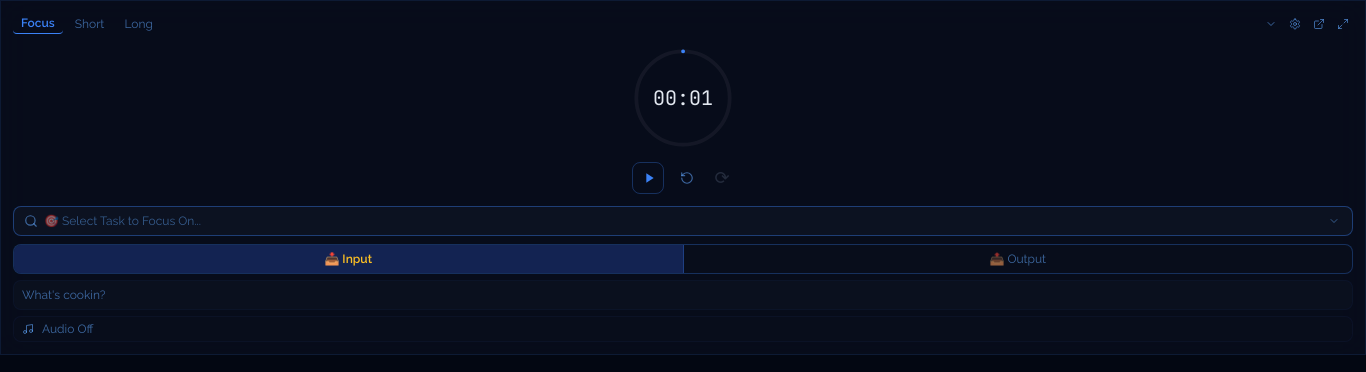
it: PomodoroTimer › allows searching tasks in TimerTaskSearch and selecting via UI click
The width and height of the screenshot is (1366, 372).
Later steps or results of the test are not shown.
Note: Search for Robotics
Type "Robotics" into the dropdown. click: (682, 221)
box: [44,213,1320,229]
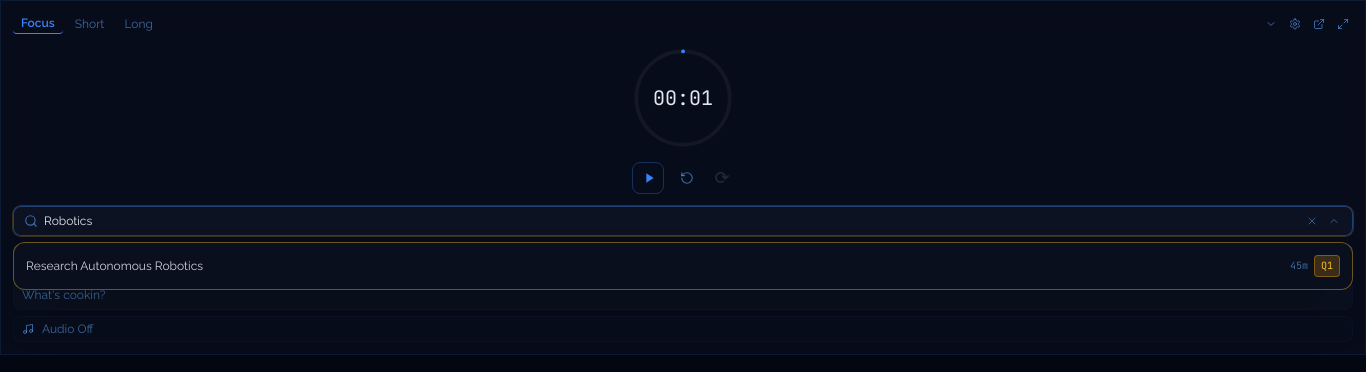
Now the option "Research Autonomous Robotics 45m Q1" is shown, box [14,247,1352,285]
